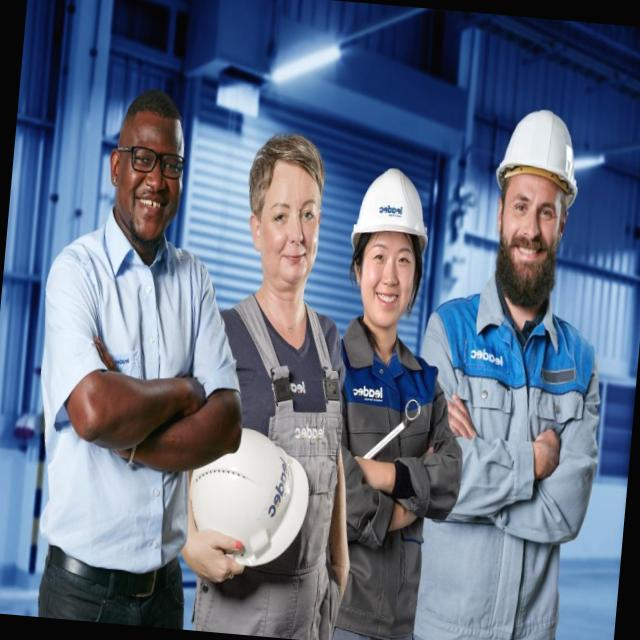goggles: (105, 136, 202, 193)
helmet: (178, 406, 320, 582), (490, 102, 590, 208), (348, 154, 441, 246)
no-goggles: (239, 178, 331, 240), (490, 180, 584, 238), (348, 224, 435, 278)
no-helmet: (238, 117, 338, 204), (106, 74, 210, 153)
no-vest: (12, 232, 225, 618), (445, 294, 605, 640), (206, 298, 362, 640), (297, 324, 442, 640)
